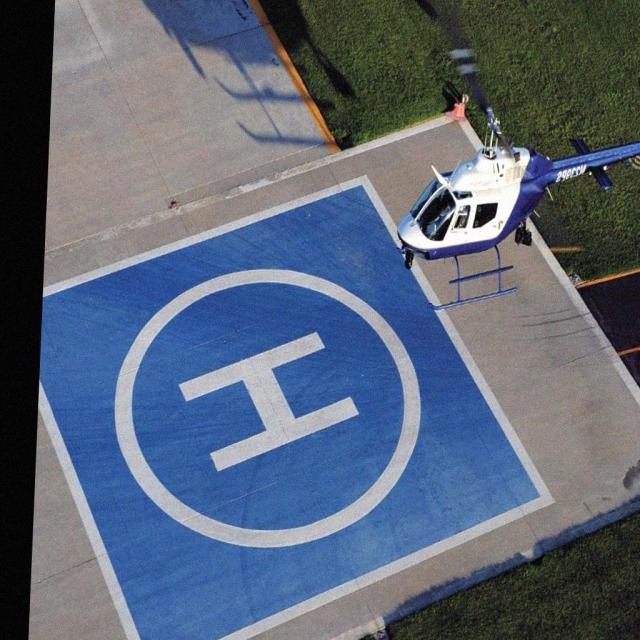helipad: (105, 260, 428, 556)
